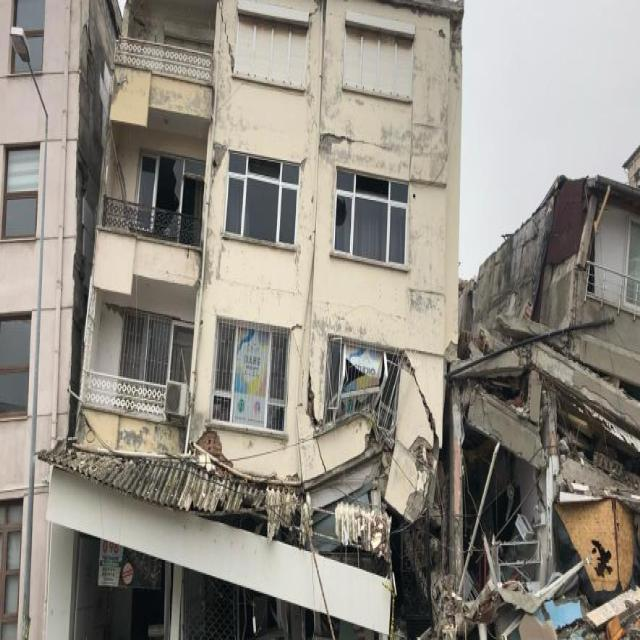collapsed building: (40, 0, 462, 639), (447, 177, 639, 638)
